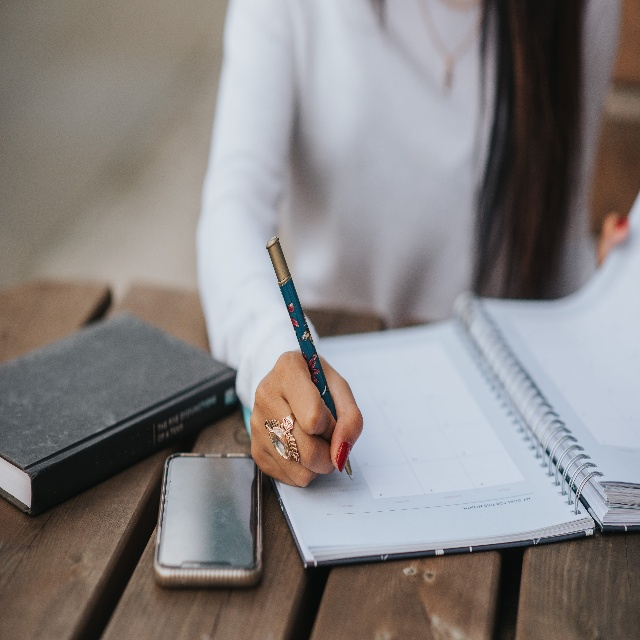Sin_guantes: (250, 344, 364, 492)
